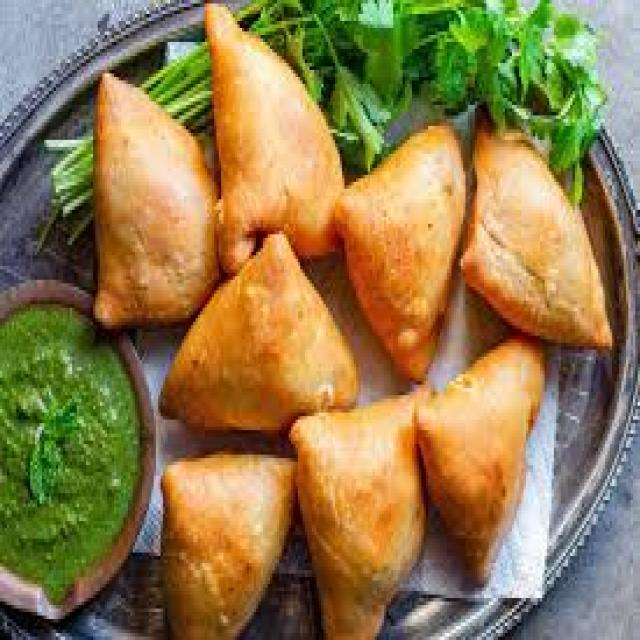SAMOSA: (157, 227, 362, 433), (459, 102, 618, 355), (408, 335, 556, 602), (201, 0, 345, 273), (289, 380, 437, 637), (337, 109, 471, 385), (94, 63, 221, 332), (161, 453, 300, 637)
